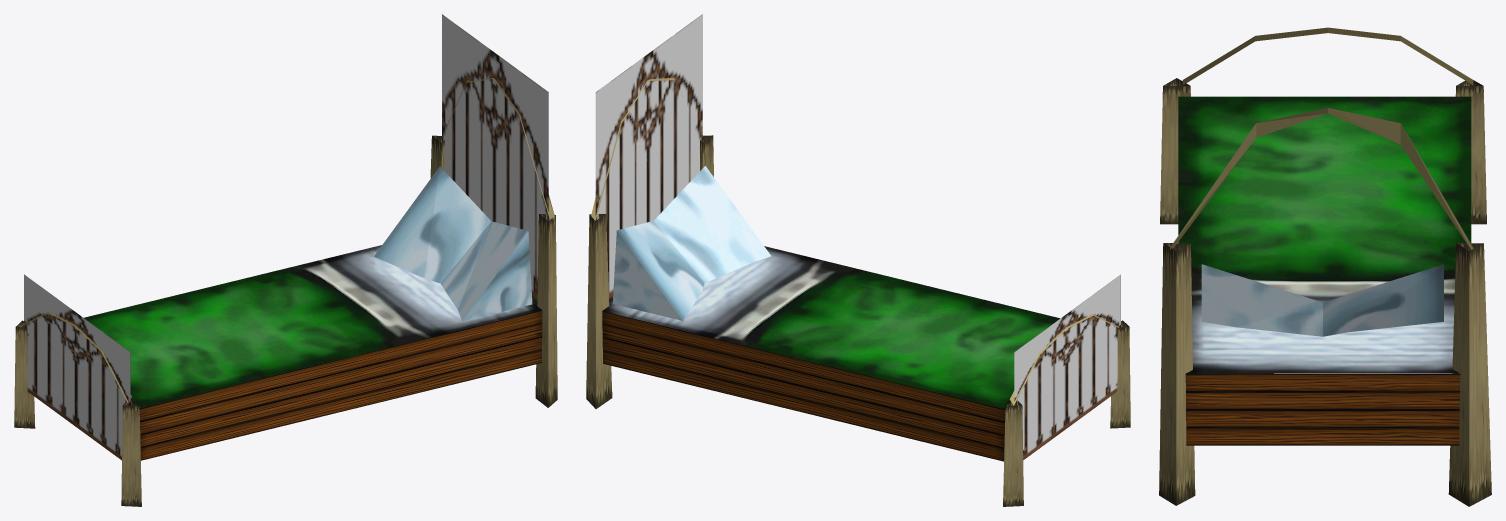
File: Bett_Messing_1599.glb
The picture shows the model from 3 angles, left to right: view 1: azimuth 30°, elevation 25°; view 2: azimuth 150°, elevation 25°; view 3: azimuth 270°, elevation 25°; orthographic projection. The views are drawn at different scales.
Visible parts, largest first — view 1: pPlaneShape94, pPlaneShape90, pPlaneShape86, pCylinderShape158, pPlaneShape87, pCylinderShape157, pCylinderShape155, pCylinderShape154; view 2: pPlaneShape94, pPlaneShape91, pPlaneShape86, pCylinderShape158, pPlaneShape87, pCylinderShape156, pCylinderShape154, pCylinderShape155; view 3: pPlaneShape94, pPlaneShape93, pCylinderShape158, pCylinderShape156, pCylinderShape157, pPlaneShape89, pCylinderShape155, pCylinderShape154, pPlaneShape88.
Part boxes in pixels (bbox=[...]): pPlaneShape94: bbox=[84, 245, 541, 408]; pPlaneShape90: bbox=[139, 310, 542, 460]; pPlaneShape86: bbox=[442, 14, 548, 299]; pCylinderShape158: bbox=[374, 166, 532, 321]; pPlaneShape87: bbox=[24, 274, 130, 460]; pCylinderShape157: bbox=[535, 214, 557, 407]; pCylinderShape155: bbox=[121, 400, 141, 506]; pCylinderShape154: bbox=[14, 320, 35, 428]; pPlaneShape94: bbox=[602, 246, 1060, 409]; pPlaneShape91: bbox=[602, 311, 1005, 461]; pPlaneShape86: bbox=[595, 14, 702, 298]; pCylinderShape158: bbox=[612, 166, 771, 320]; pPlaneShape87: bbox=[1014, 274, 1120, 459]; pCylinderShape156: bbox=[586, 214, 612, 408]; pCylinderShape154: bbox=[1003, 401, 1023, 506]; pCylinderShape155: bbox=[1110, 320, 1130, 428]; pPlaneShape94: bbox=[1178, 96, 1471, 373]; pPlaneShape93: bbox=[1185, 373, 1460, 445]; pCylinderShape158: bbox=[1201, 264, 1443, 336]; pCylinderShape156: bbox=[1448, 243, 1491, 506]; pCylinderShape157: bbox=[1159, 243, 1195, 505]; pPlaneShape89: bbox=[1170, 108, 1473, 250]; pCylinderShape155: bbox=[1160, 78, 1190, 224]; pCylinderShape154: bbox=[1455, 80, 1486, 224]; pPlaneShape88: bbox=[1182, 27, 1473, 84].
Size of the model in its own units: 0.404 by 0.2728 by 0.1943.
Materials: 14 (12 with a texture image).
